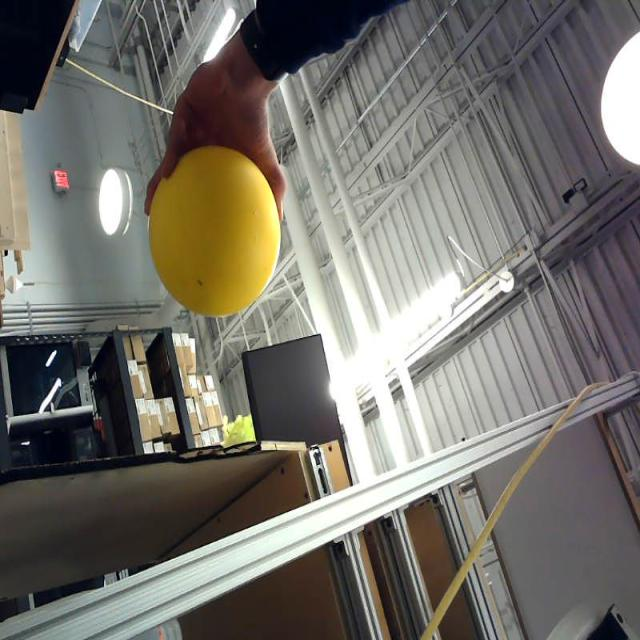Fuel: (148, 144, 280, 318)
